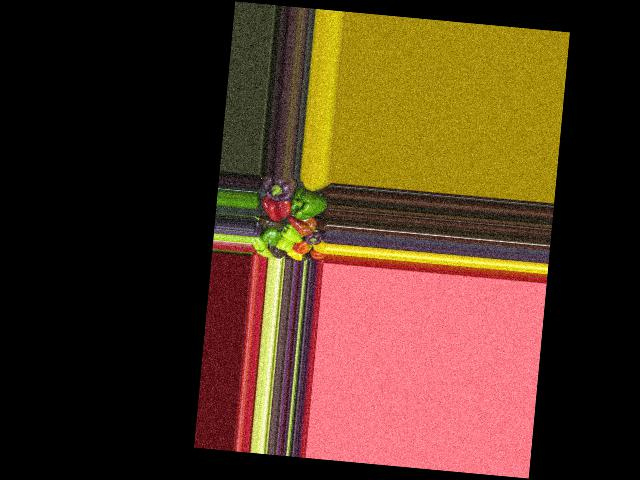bell_pepper: (303, 229, 324, 248)
